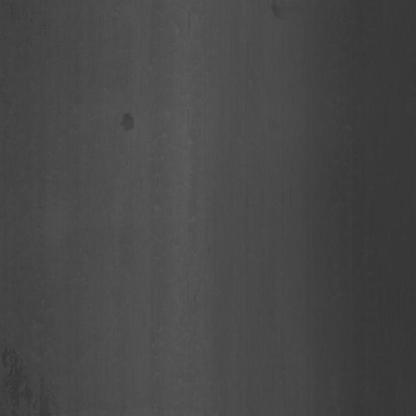water_spot: (118, 104, 141, 143)
